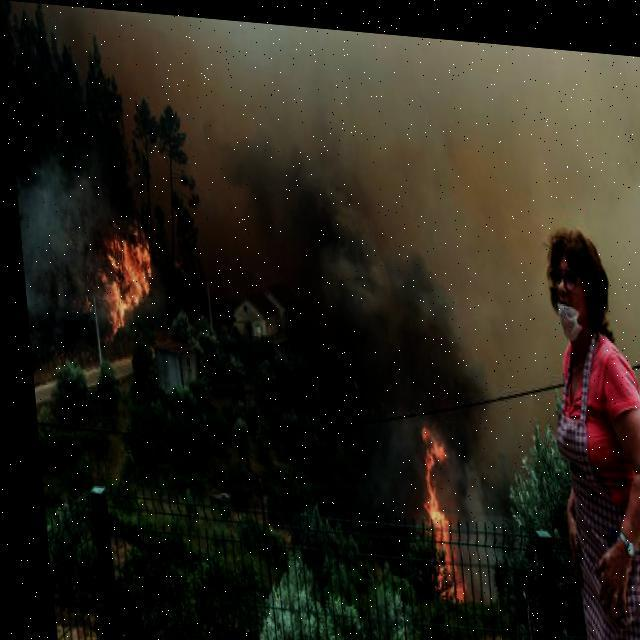Fire: (68, 205, 176, 346), (398, 414, 474, 600)
